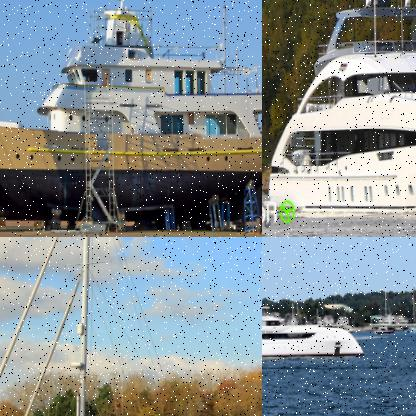Sails Boat: (0, 237, 261, 415), (372, 286, 394, 334), (404, 289, 415, 334)
Yacht: (0, 0, 261, 220), (262, 0, 415, 217), (262, 251, 364, 360)
